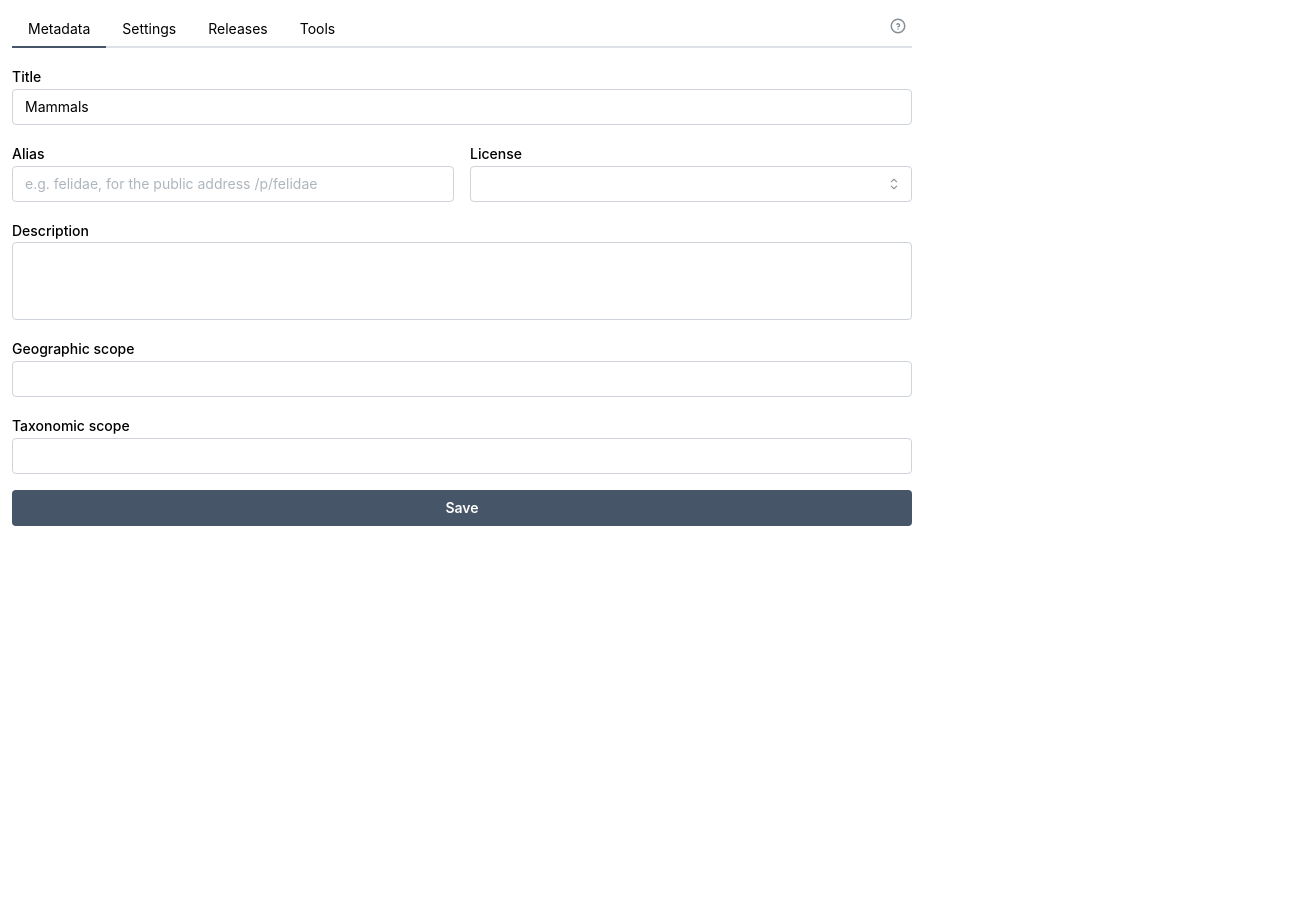
prefills the form and saves updated metadata
Replace the text in the field labelled "Title" with "Mammalia" at x=462, y=107, box [12,89,912,125]
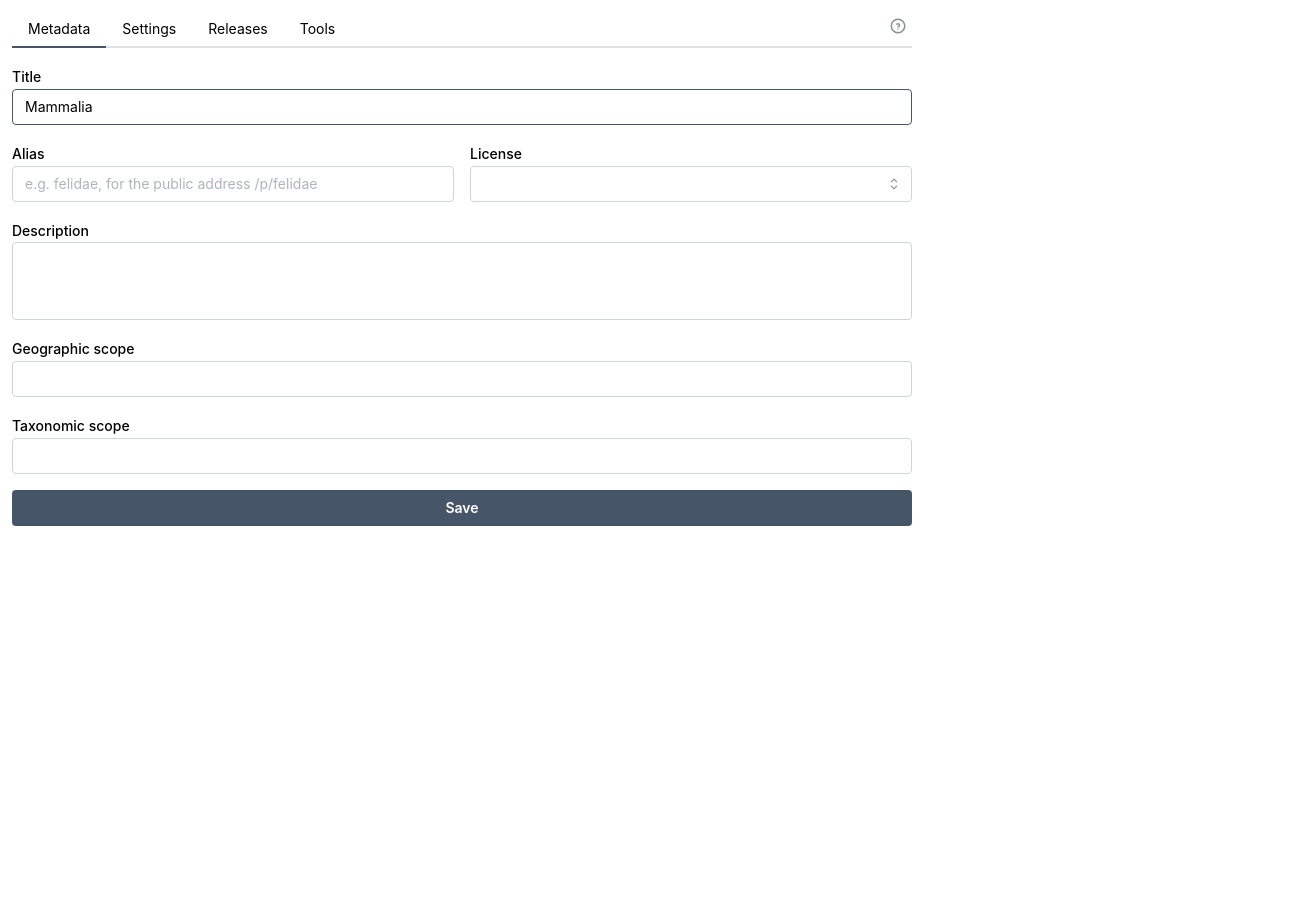
Click the button "Save" at x=462, y=508, box [12,490,912,526]
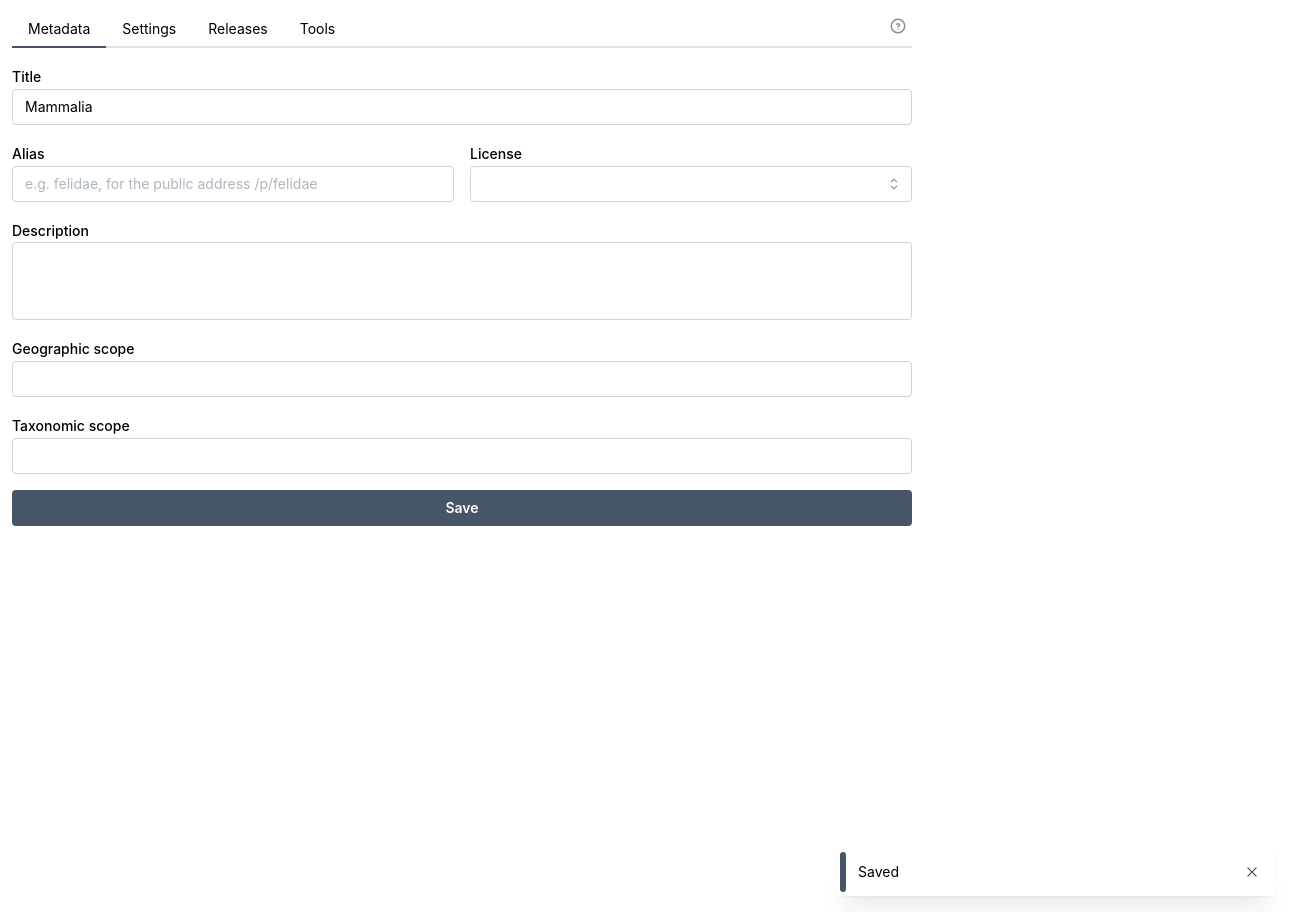
expect the text "Saved" is shown: met, box [858,863,899,880]
